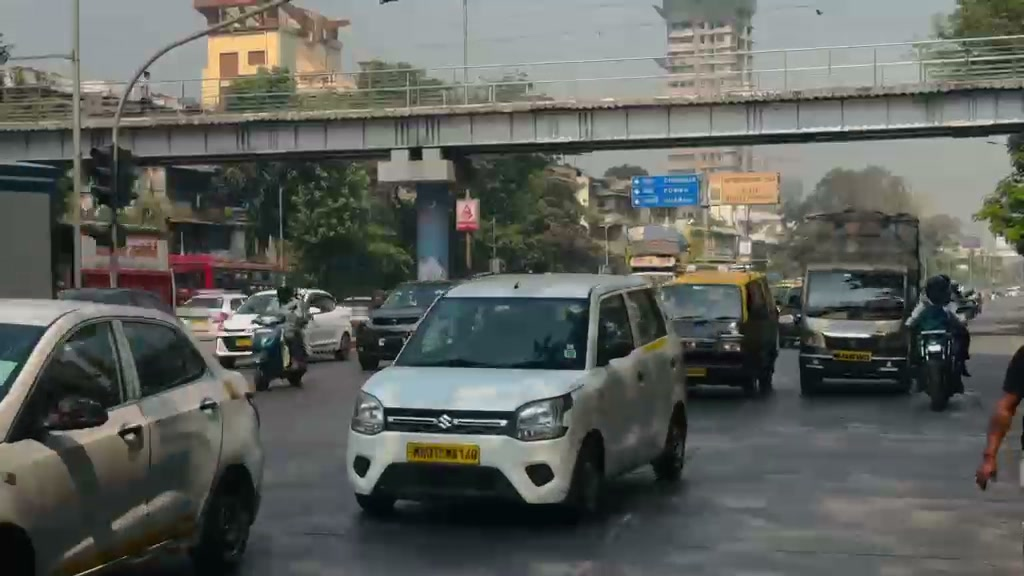car: (344, 272, 691, 522), (1, 297, 266, 571), (657, 266, 781, 397), (355, 280, 454, 372), (215, 290, 301, 366), (175, 290, 247, 337), (58, 286, 174, 314), (300, 303, 355, 362), (774, 282, 805, 349)
motorcycle: (910, 314, 970, 412), (250, 312, 308, 391)
pedestrian: (975, 342, 1024, 564), (976, 343, 1024, 493), (905, 274, 972, 381)
truck: (792, 208, 924, 396)
